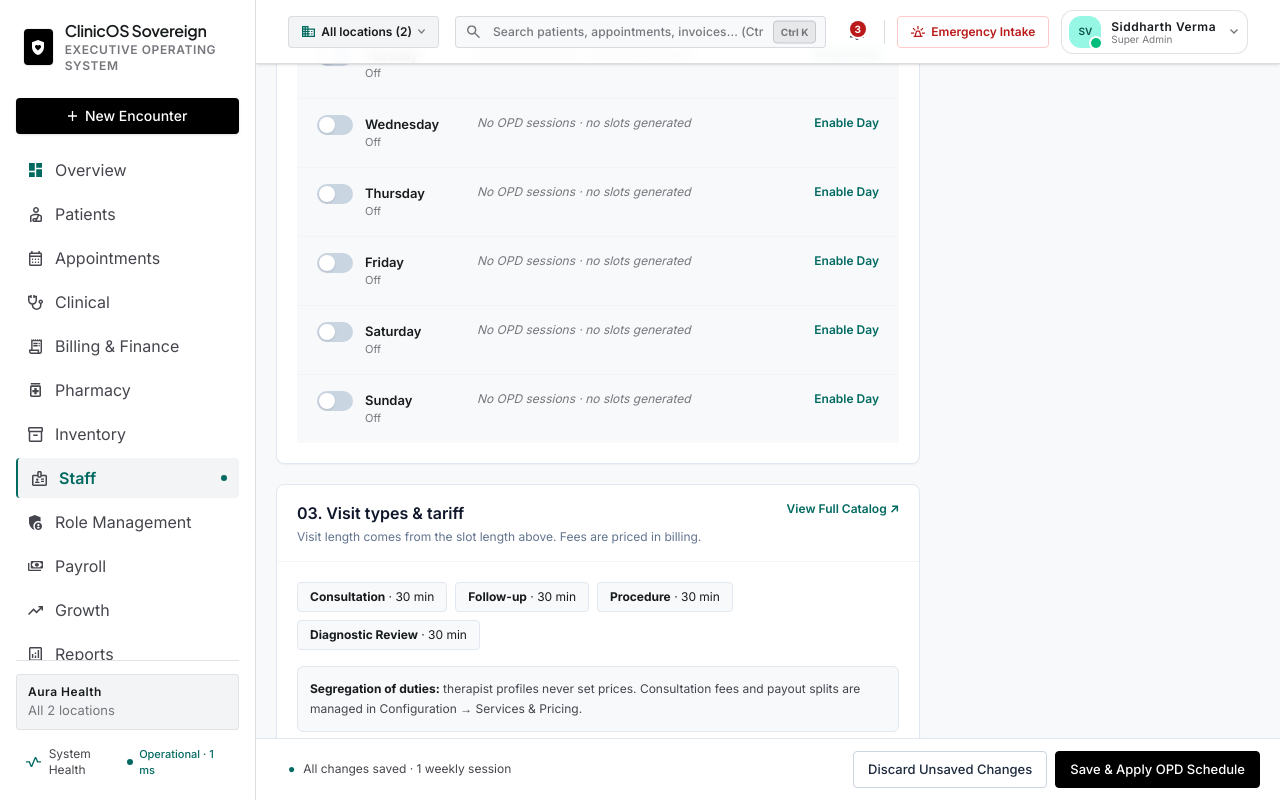
OPD schedule › edits the weekly hours of a linked therapist and saves them
(page scrolled)
Click the switch named "Sunday OPD".
click(335, 401)  # box [317, 391, 353, 411]
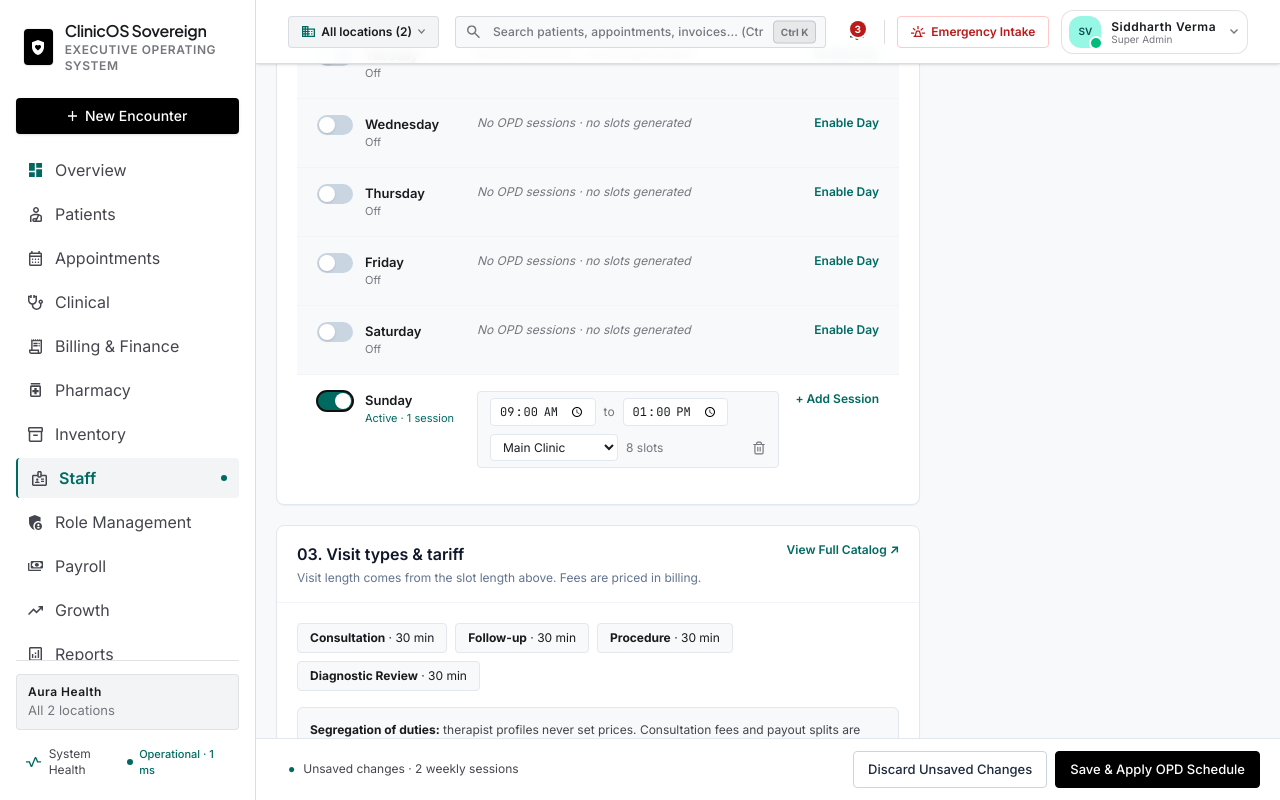
Click the button "Save & Apply OPD Schedule".
click(1158, 769)  # box [1055, 750, 1260, 788]
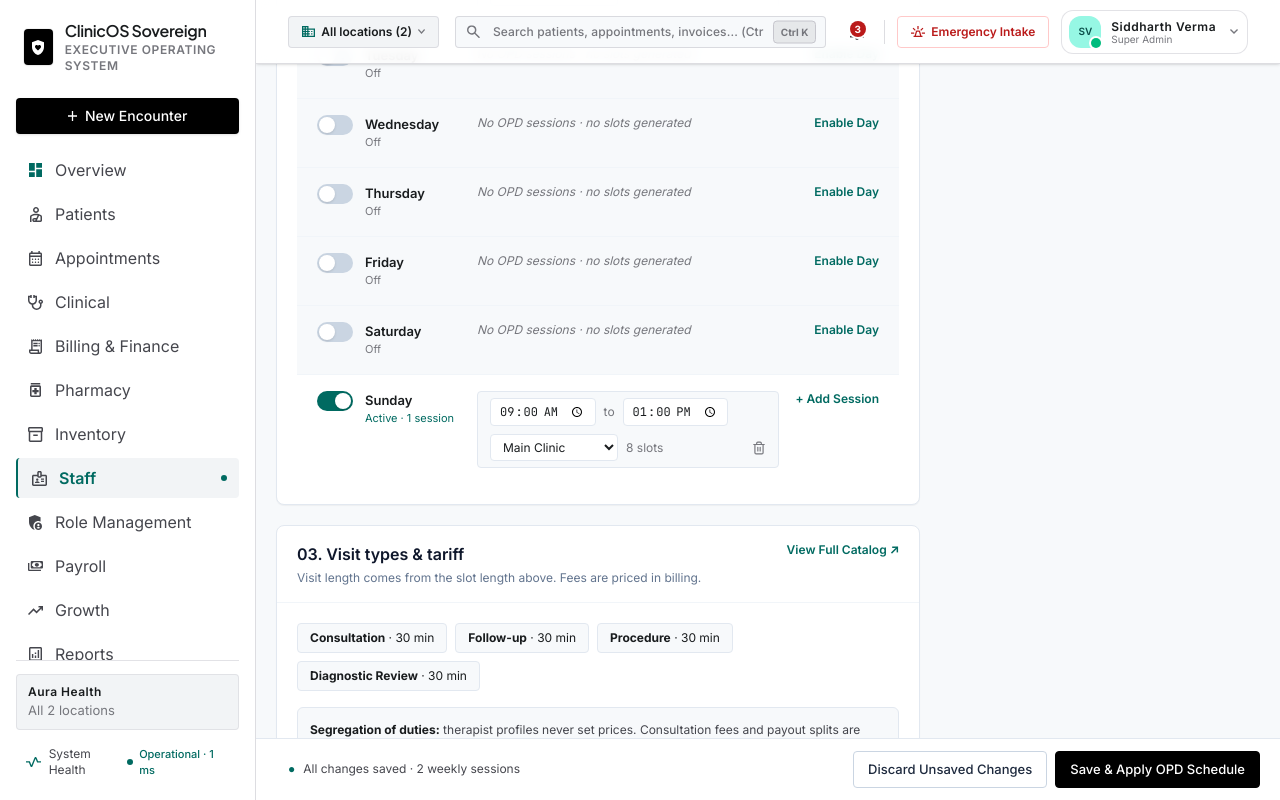
Now the text "All changes saved" is shown, box [303, 761, 406, 776]
